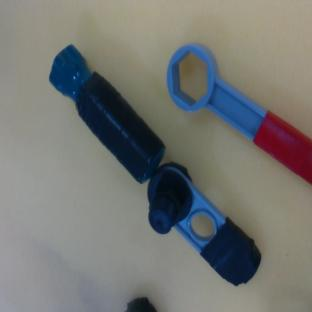part_1_bad: (126, 155, 271, 304)
part_2_bad: (38, 41, 174, 186)
part_3_bad: (125, 297, 156, 311)
